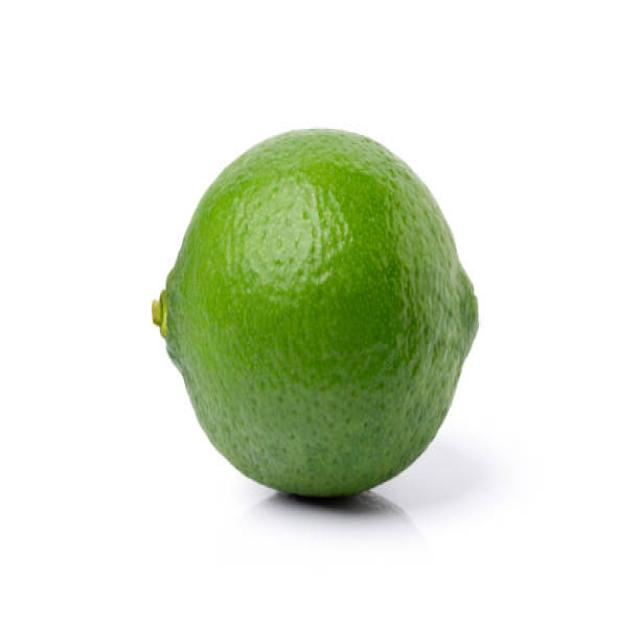Unripe: (152, 126, 478, 499)
